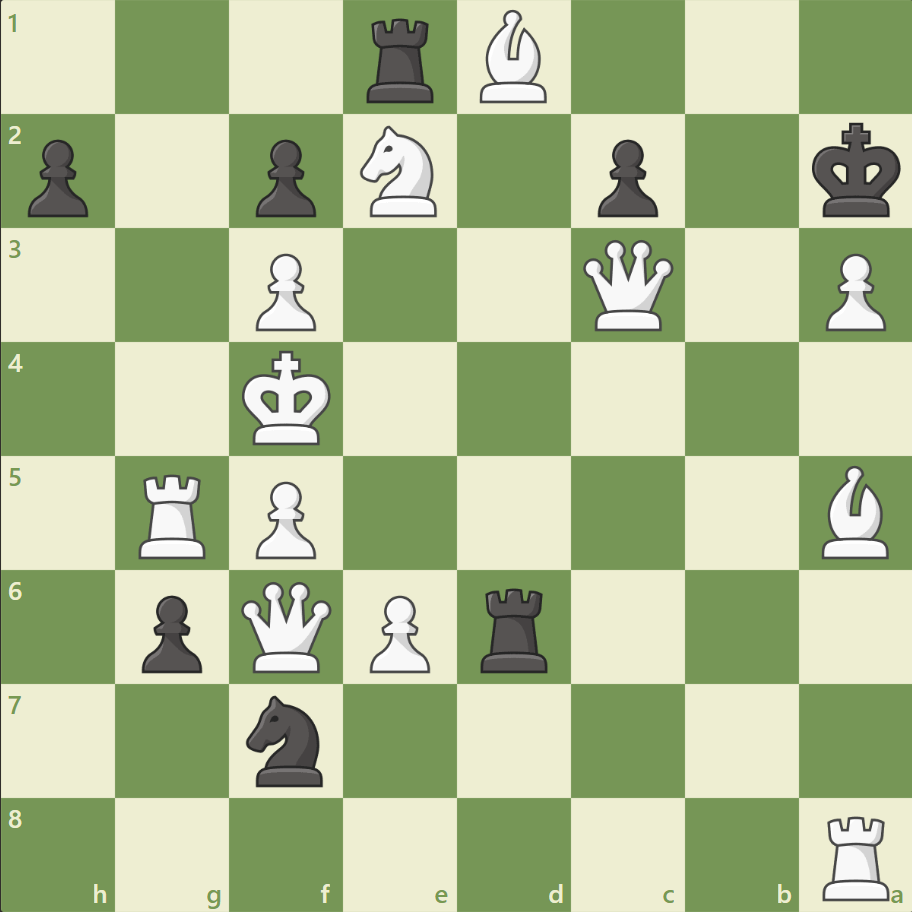B: (812, 460, 896, 563), (471, 6, 555, 109)
K: (238, 344, 338, 452)
N: (351, 121, 449, 223)
P: (247, 473, 322, 564), (247, 246, 322, 337), (361, 586, 435, 677), (815, 246, 889, 337)
Q: (237, 576, 336, 676), (578, 236, 677, 335)
R: (814, 806, 897, 904), (133, 466, 215, 563)
k: (806, 117, 906, 225)
n: (238, 688, 335, 791)
p: (133, 586, 208, 677), (247, 132, 322, 223), (20, 132, 95, 223), (588, 132, 662, 223)
r: (473, 579, 556, 676), (360, 12, 442, 109)
